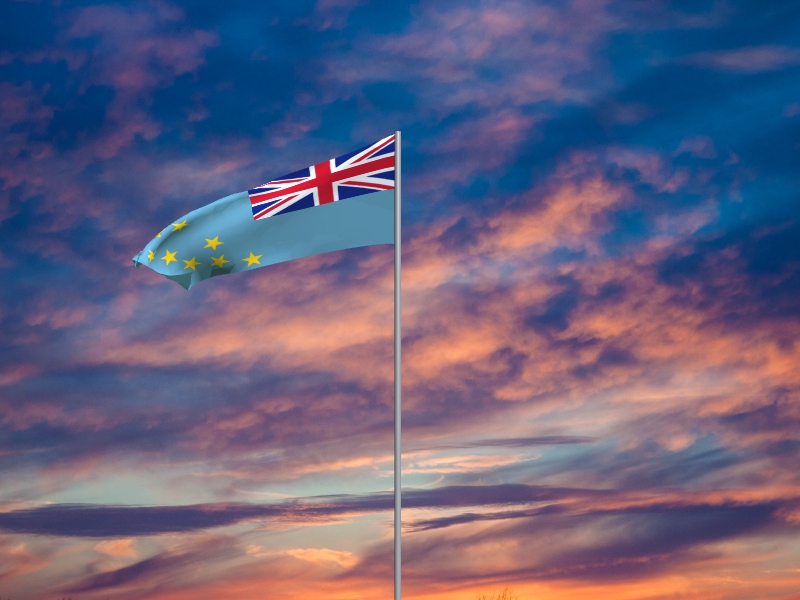tv: (131, 133, 395, 292)
